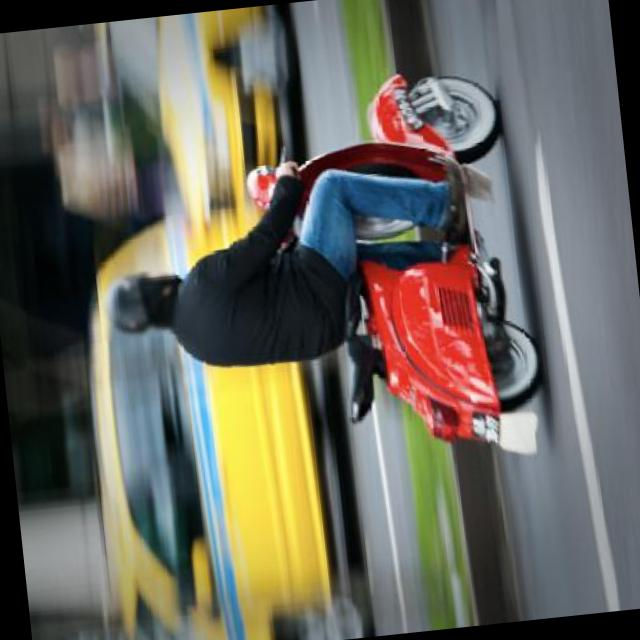With Helmet: (96, 264, 184, 340)
